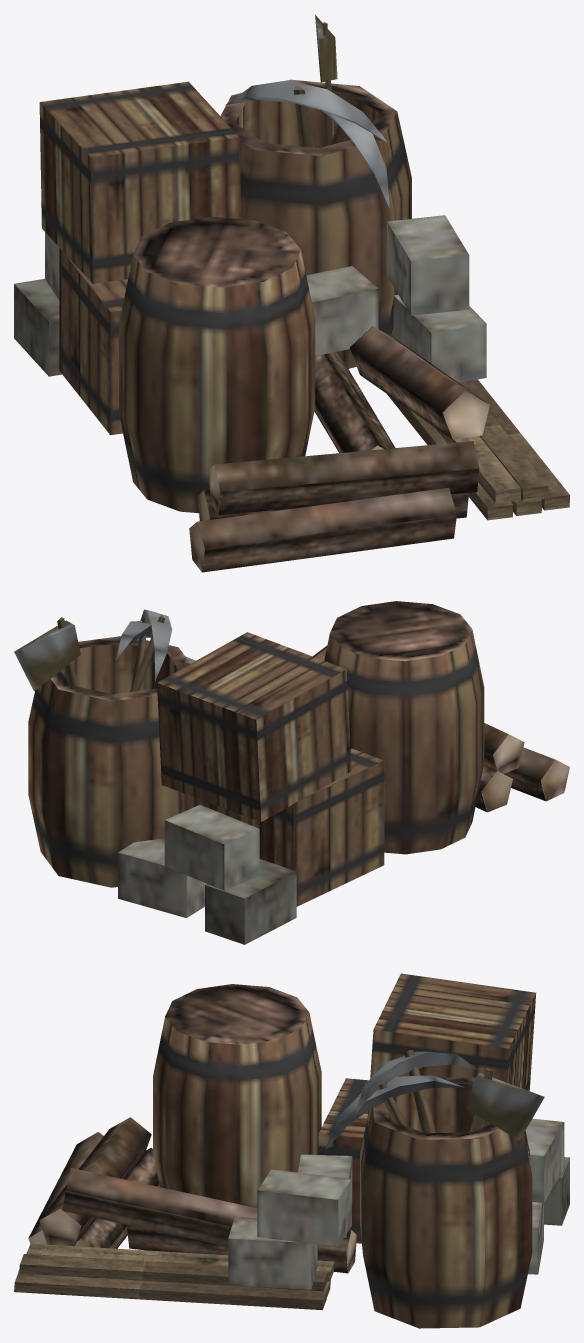
File: wagon_props.dae
The picture shows the model from 3 angles, top to bottom: view 1: azimuth 30°, elevation 25°; view 2: azimuth 150°, elevation 25°; view 3: azimuth 270°, elevation 25°; orthographic projection. The views are drawn at different scales.
Visible parts, largest first — view 1: House_c_hun_001; view 2: House_c_hun_001; view 3: House_c_hun_001.
Boxes of the visible parts, left/top/right/bottom form: House_c_hun_001: left=14, top=15, right=569, bottom=572; House_c_hun_001: left=14, top=601, right=569, bottom=944; House_c_hun_001: left=14, top=973, right=569, bottom=1328.
Bounding box in the file's own units: 4.11 × 5.71 × 2.83.
